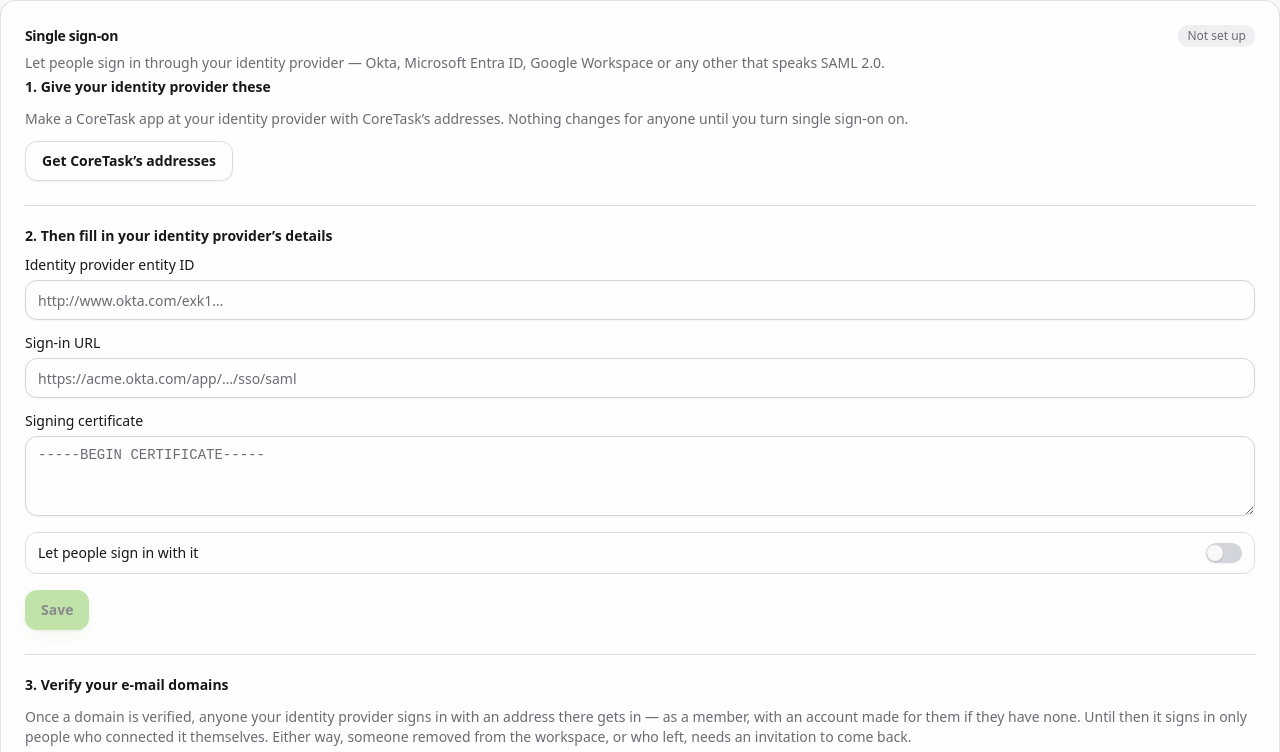
it: WorkspaceSsoCard › saves an empty draft, switched off, to get the addresses to give the provider
The width and height of the screenshot is (1280, 752).
Expected: the text "Not set up" is shown, [1178,25,1255,47]
Click the button "Get CoreTask’s addresses" at (129, 161), box [25,141,233,181]
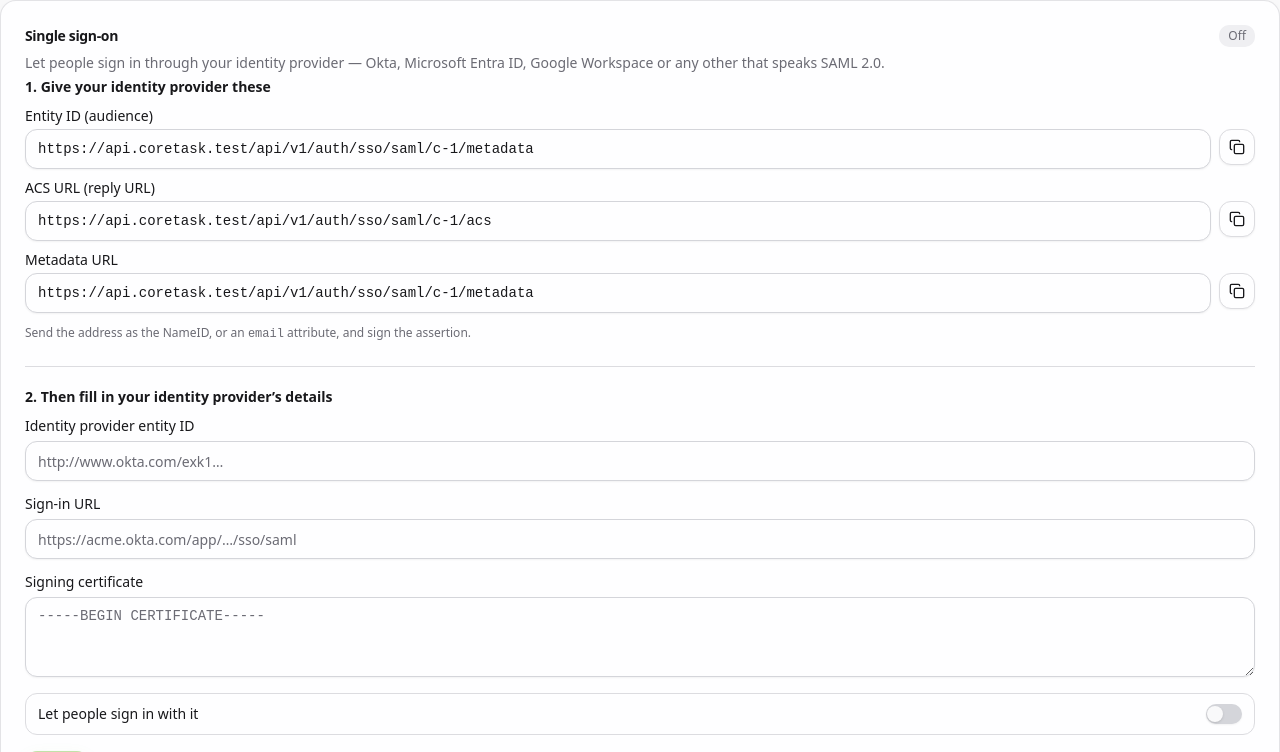
Now the button named "Copy ACS URL (reply URL)" is shown, box [1219,201,1255,237]
Now the text "Off" is shown, box [1219,25,1255,47]
